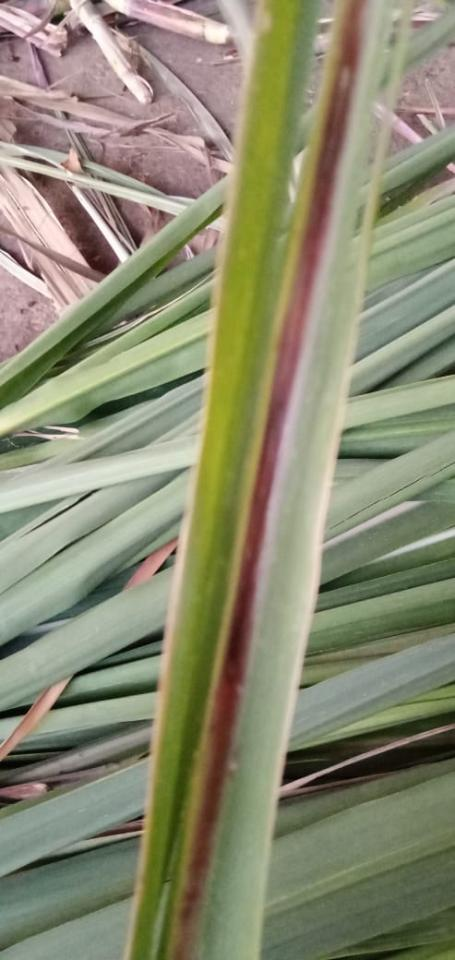RedRot: (174, 0, 367, 959)
